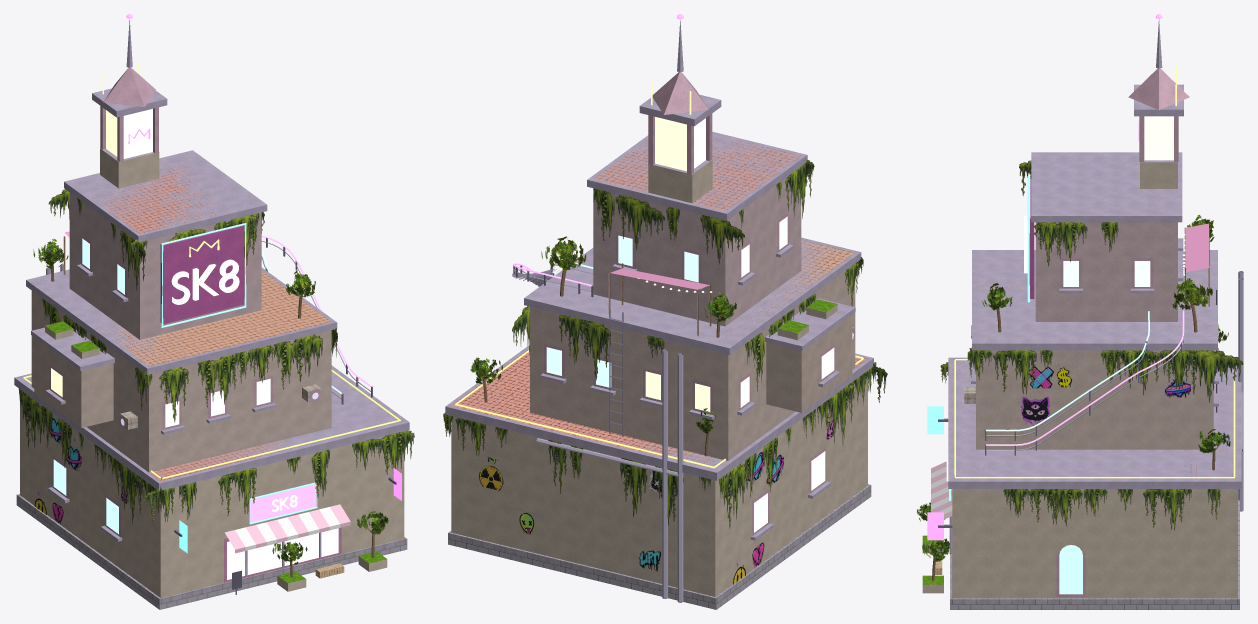
The model's file is MARKET_WEST.glb.
3 views of the same model, side by side, from view 1: azimuth 30°, elevation 25°; view 2: azimuth 150°, elevation 25°; view 3: azimuth 270°, elevation 25° (orthographic). The views are drawn at different scales.
Parts seen in each view (by area): view 1: MK_West_Body.001, MK_West_MossP.001, MK_West_MossA.001, MK_West_Trees.001, MK_West_MossB.001, MKW_BillText.001, MKW_PodiumLedge_Rail.001; view 2: MK_West_Body.001, MK_West_MossP.001, MK_West_MossB.001, MK_West_MossA.001, MK_West_Trees.001, MKW_PodiumLedge_Rail.001; view 3: MK_West_Body.001, MK_West_MossA.001, MK_West_MossP.001, MK_West_Trees.001, MK_West_MossB.001, MKW_PodiumLedge_Rail.001, MKW_StairRail-1_Rail.001, MKW_StairRail-1_Posts.001, MKW_StairRail1_Rail.001.
Boxes of the visible parts, bbox=[...] form: MK_West_Body.001: bbox=[14, 14, 409, 609]; MK_West_MossP.001: bbox=[18, 388, 414, 523]; MK_West_MossA.001: bbox=[42, 298, 337, 422]; MK_West_Trees.001: bbox=[33, 239, 388, 577]; MK_West_MossB.001: bbox=[48, 189, 264, 290]; MKW_BillText.001: bbox=[171, 259, 239, 304]; MKW_PodiumLedge_Rail.001: bbox=[23, 369, 400, 479]; MK_West_Body.001: bbox=[445, 14, 873, 609]; MK_West_MossP.001: bbox=[443, 362, 887, 528]; MK_West_MossB.001: bbox=[593, 160, 814, 264]; MK_West_MossA.001: bbox=[512, 257, 863, 391]; MK_West_Trees.001: bbox=[470, 236, 736, 456]; MKW_PodiumLedge_Rail.001: bbox=[455, 350, 863, 468]; MK_West_Body.001: bbox=[922, 14, 1243, 609]; MK_West_MossA.001: bbox=[967, 348, 1243, 402]; MK_West_MossP.001: bbox=[940, 362, 1220, 530]; MK_West_Trees.001: bbox=[917, 214, 1230, 580]; MK_West_MossB.001: bbox=[1019, 160, 1118, 266]; MKW_PodiumLedge_Rail.001: bbox=[954, 359, 1235, 478]; MKW_StairRail-1_Rail.001: bbox=[986, 310, 1184, 445]; MKW_StairRail-1_Posts.001: bbox=[985, 336, 1183, 455]; MKW_StairRail1_Rail.001: bbox=[986, 311, 1149, 431].
Bounding box in the file's own units: 28.53 × 47.3 × 27.55.
Materials: 26 (10 with a texture image).
